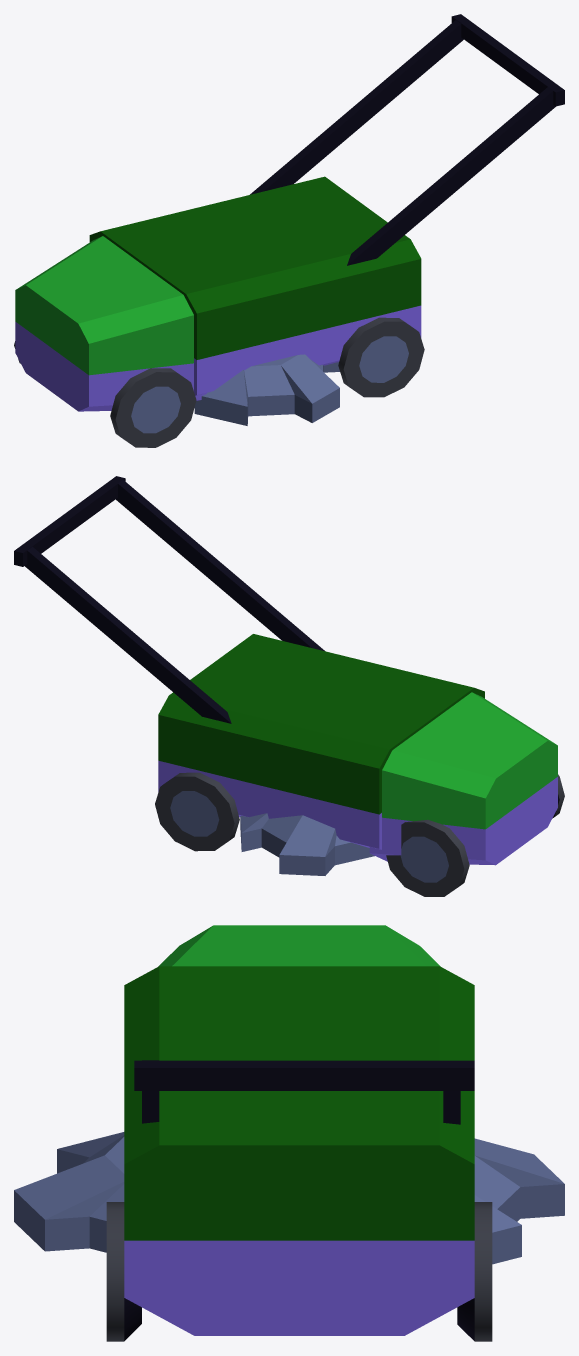
Rendered from mower_normal.glb.
3 renders of one model, top to bottom at view 1: azimuth 30°, elevation 25°; view 2: azimuth 150°, elevation 25°; view 3: azimuth 270°, elevation 25°, orthographic. The views are drawn at different scales.
Parts seen in each view (by area): view 1: mergedBlocks(Clone); view 2: mergedBlocks(Clone); view 3: mergedBlocks(Clone).
Part boxes in pixels (box(x1,y1,x2,y2)): mergedBlocks(Clone): box(14, 14, 564, 447); mergedBlocks(Clone): box(14, 476, 564, 896); mergedBlocks(Clone): box(14, 925, 564, 1341).
Size of the model in its own units: 2.49 by 1.31 by 1.57.
